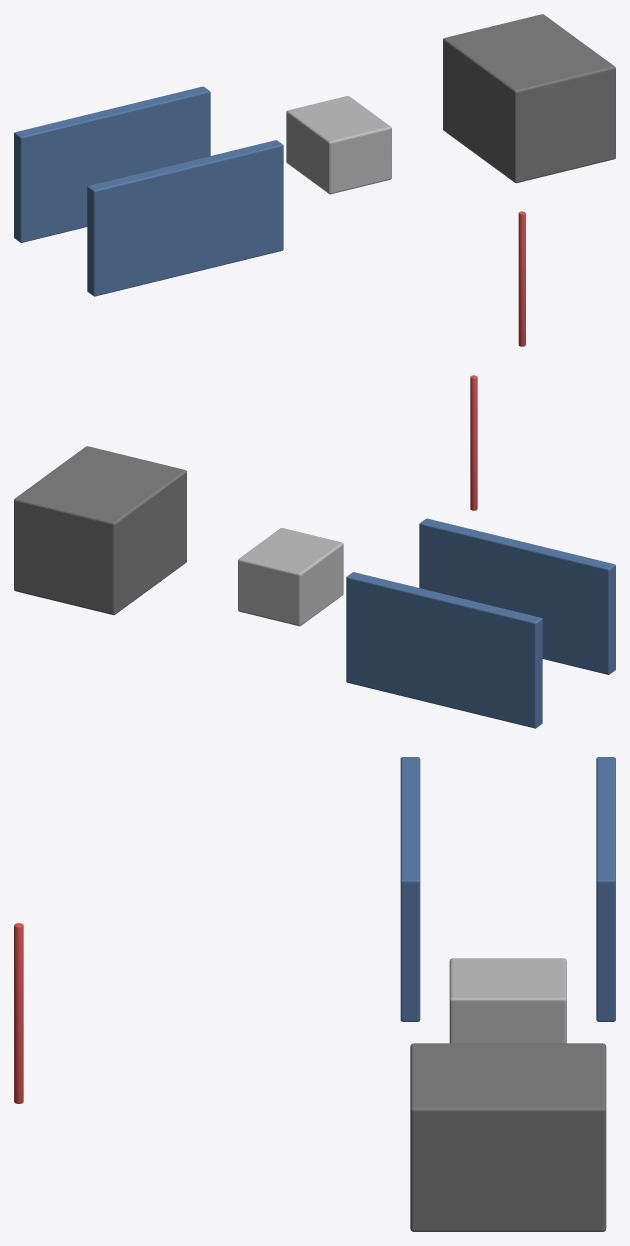
File: montage_panneau_solaire_v1.glb
3 renders of one model, top to bottom at view 1: azimuth 30°, elevation 25°; view 2: azimuth 150°, elevation 25°; view 3: azimuth 270°, elevation 25°, orthographic. The views are drawn at different scales.
Parts seen in each view (by area): view 1: battery, panel_2, panel_1, regulator, wire_template; view 2: battery, panel_1, panel_2, regulator, wire_template; view 3: battery, regulator, panel_2, panel_1, wire_template.
Boxes of the visible parts, x1,y1,x2,y2 form: battery: (443,14,615,183); panel_2: (87,140,283,296); panel_1: (14,86,210,242); regulator: (286,96,391,194); wire_template: (518,211,525,346); battery: (14,446,186,615); panel_1: (346,572,542,728); panel_2: (419,518,615,674); regulator: (238,528,343,626); wire_template: (470,375,477,510); battery: (410,1043,606,1231); regulator: (449,958,566,1043); panel_2: (400,757,420,1021); panel_1: (596,757,615,1021); wire_template: (14,923,23,1103).
Size of the model in its own units: 8.3 by 2 by 6.15.
